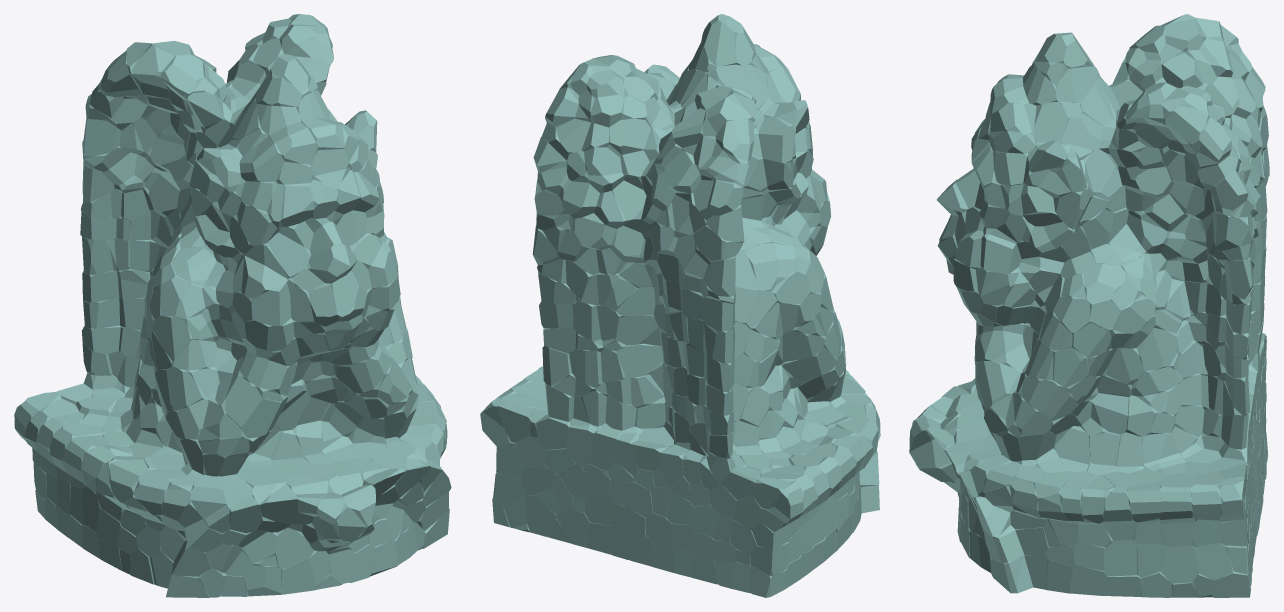
Rendered from gargoyle_small.glb.
The picture shows the model from 3 angles, left to right: view 1: azimuth 30°, elevation 25°; view 2: azimuth 150°, elevation 25°; view 3: azimuth 270°, elevation 25°; orthographic projection. The views are drawn at different scales.
Parts seen in each view (by area): view 1: models_NDC_normours_32_NDC_norm64764obj; view 2: models_NDC_normours_32_NDC_norm64764obj; view 3: models_NDC_normours_32_NDC_norm64764obj.
Part boxes in pixels (<box>): models_NDC_normours_32_NDC_norm64764obj: <box>14,14,451,597</box>; models_NDC_normours_32_NDC_norm64764obj: <box>480,14,880,597</box>; models_NDC_normours_32_NDC_norm64764obj: <box>909,14,1269,597</box>.
Bounding box in the file's own units: 1.03 × 1.43 × 0.946.
